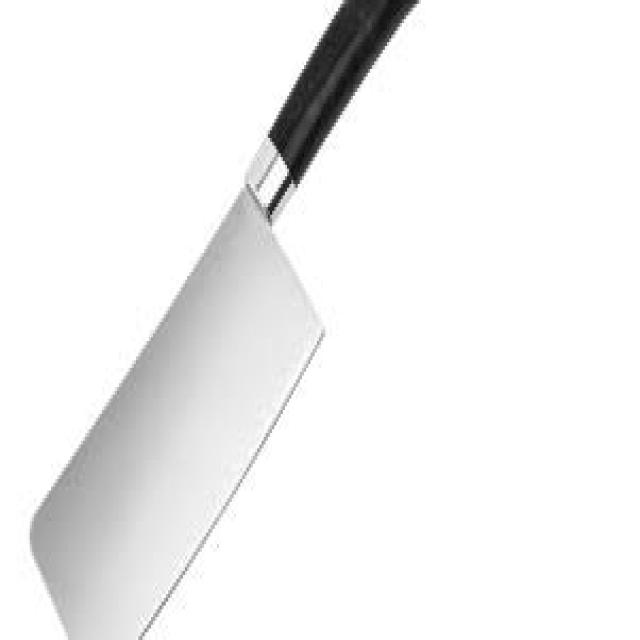Knife: (30, 0, 417, 636)
